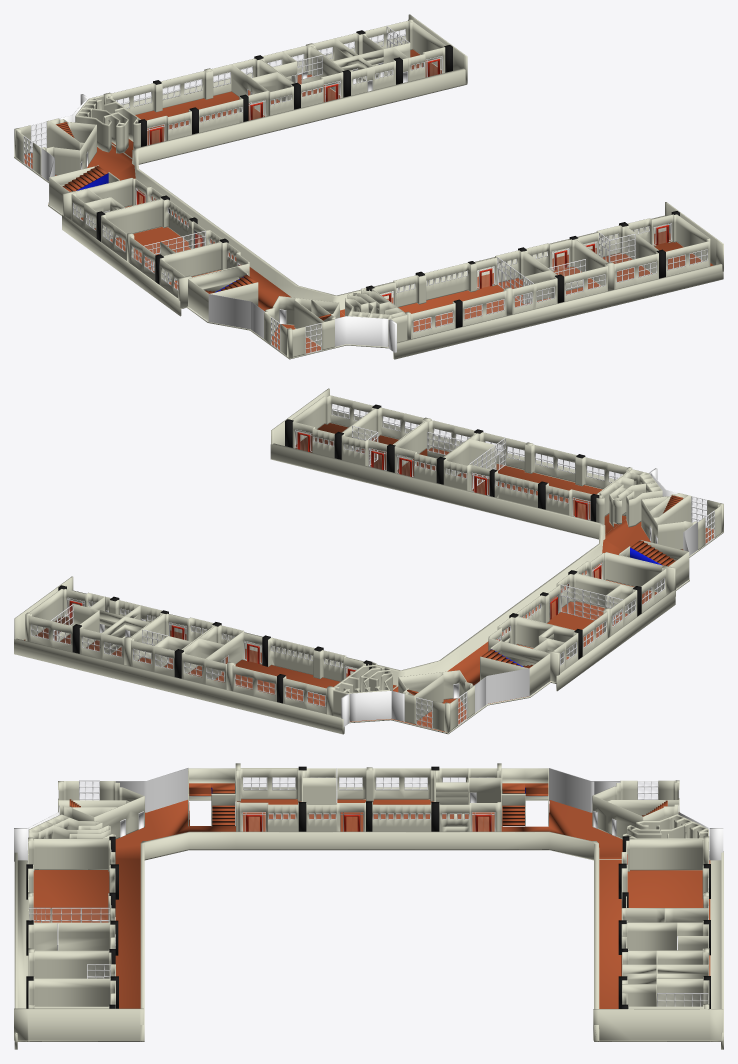
The model's file is Lantai 3.obj.
The picture shows the model from 3 angles, top to bottom: view 1: azimuth 30°, elevation 25°; view 2: azimuth 150°, elevation 25°; view 3: azimuth 270°, elevation 25°; orthographic projection. The views are drawn at different scales.
Parts seen in each view (by area): view 1: Lantai_3, LP_1, LP_2, Netics, Pillar, Tangga, HMTC, Co_Working_Space_IUP, PKT, KBJ, KCV, Alpro (+7 smaller); view 2: Lantai_3, LP_1, LP_2, Pillar, Netics, Tangga, Co_Working_Space_IUP, HMTC, PKT, Alpro, KBJ, MCI (+7 smaller); view 3: Lantai_3, Netics, LP_1, Tangga, LP_2, GIGA, Lab_Pascasarjana, Co_Working_Space_IUP, HMTC, Pillar, MCI, RPL (+8 smaller).
Part boxes in pixels (x1,y1,x2,y2): Lantai_3: (14,14,723,359); LP_1: (371,250,557,338); LP_2: (109,58,293,145); Netics: (101,199,222,281); Pillar: (14,19,679,358); Tangga: (49,165,258,321); HMTC: (264,296,339,357); Co_Working_Space_IUP: (16,118,96,175); PKT: (362,20,445,81); KBJ: (575,225,658,289); KCV: (525,239,607,301); Alpro: (260,45,343,107); Lantai_3: (14,388,723,734); LP_1: (443,432,629,520); LP_2: (181,625,365,714); Pillar: (25,404,723,732); Netics: (516,573,637,656); Tangga: (480,540,689,695); Co_Working_Space_IUP: (398,670,474,731); HMTC: (641,493,721,549); PKT: (28,589,104,651); Alpro: (131,613,214,676); KBJ: (341,407,425,470); MCI: (79,596,163,664); Lantai_3: (14,768,723,1049); Netics: (302,768,435,831); LP_1: (27,838,115,923); Tangga: (188,768,548,826); LP_2: (621,839,709,922); GIGA: (435,768,501,831); Lab_Pascasarjana: (236,768,302,831); Co_Working_Space_IUP: (592,780,679,839); HMTC: (58,780,144,838); Pillar: (26,763,710,1008); MCI: (622,950,709,983); RPL: (28,979,115,1008).
Size of the model in its own units: 67.23 by 5.3 by 82.17.
